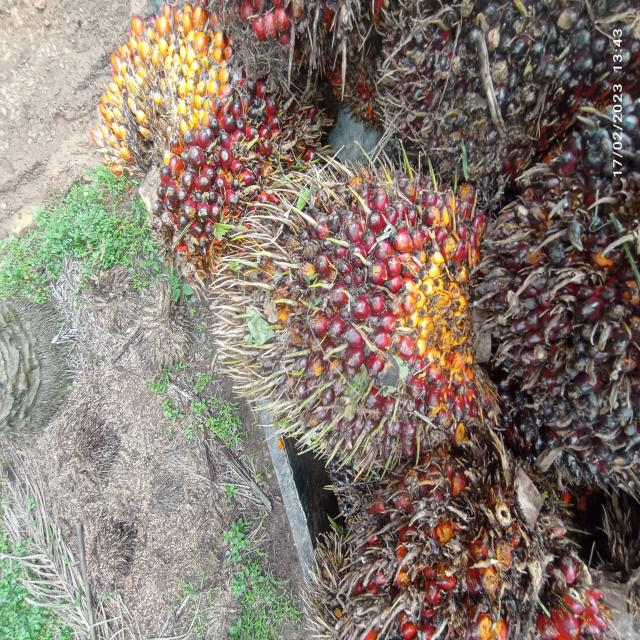fraksi 00: (468, 138, 640, 486), (381, 0, 617, 195)
fraksi 1: (207, 171, 492, 477), (79, 1, 308, 268)
fraksi 3: (336, 456, 590, 640)
